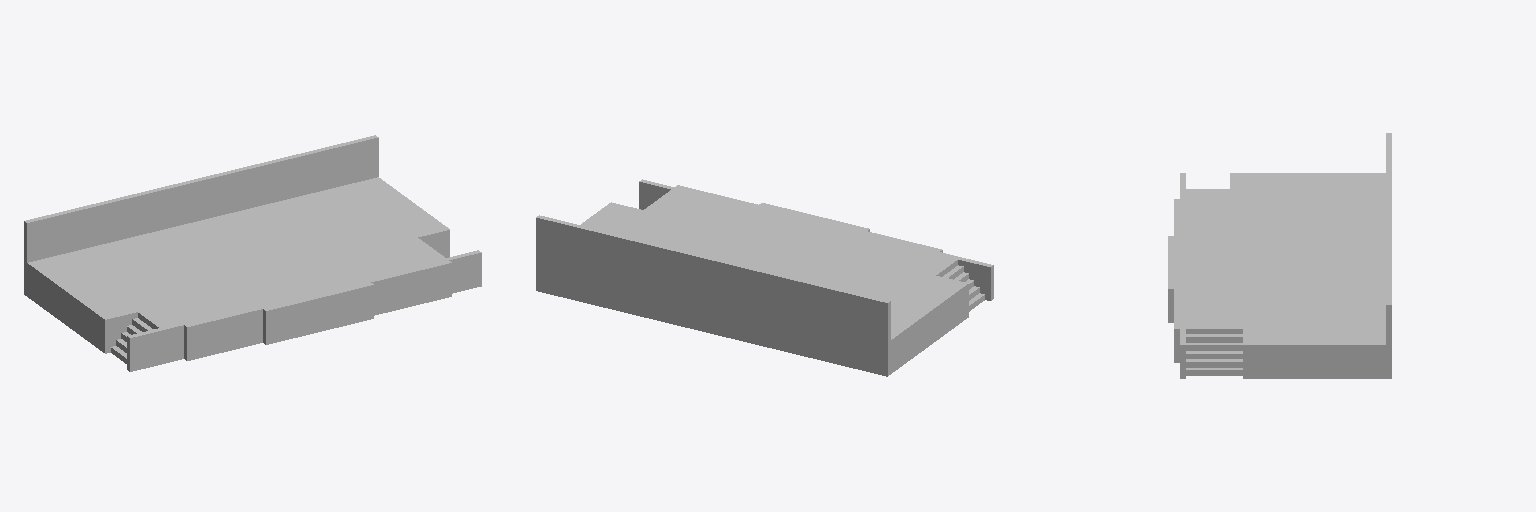
File: Anfiteatro aberto.obj
3 renders of one model, left to right at view 1: azimuth 30°, elevation 25°; view 2: azimuth 150°, elevation 25°; view 3: azimuth 270°, elevation 25°, orthographic.
Visible parts, largest first — view 1: object 1; view 2: object 1; view 3: object 1.
Part boxes in pixels (left/top/right/bottom): object 1: left=24, top=135, right=481, bottom=371; object 1: left=536, top=179, right=993, bottom=376; object 1: left=1168, top=133, right=1391, bottom=378.
Bounding box in the file's own units: 6.5 × 1.3 × 3.6.